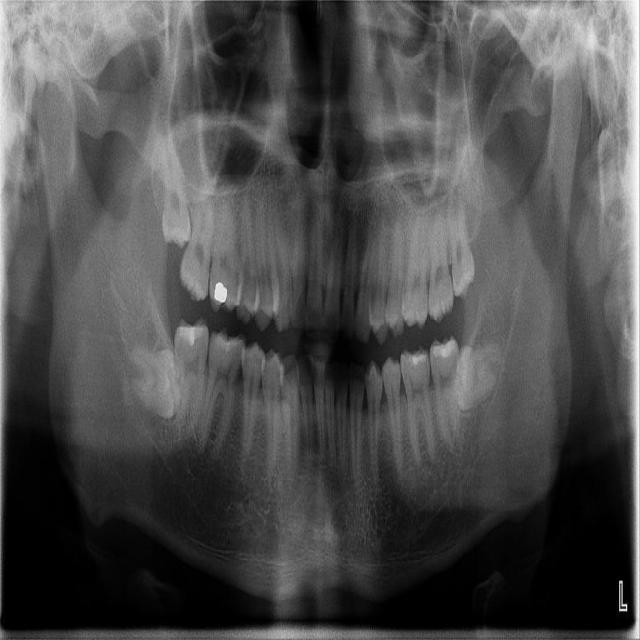3M ESPE Implant: (155, 126, 192, 254)
52: (170, 315, 213, 364), (208, 266, 242, 315), (427, 333, 462, 378), (398, 345, 432, 390), (210, 329, 246, 370)
73: (620, 616, 632, 624)
BioHorizons Implant: (429, 211, 455, 324)
BioLife Implant: (445, 190, 477, 303)
Biomet 3i Implant: (453, 341, 503, 411)
Blue Sky Bio Implant: (428, 334, 464, 451)
Caries: (176, 172, 221, 304)
Implant: (173, 314, 209, 437)
Keystone Dental Implant: (124, 339, 187, 425)
